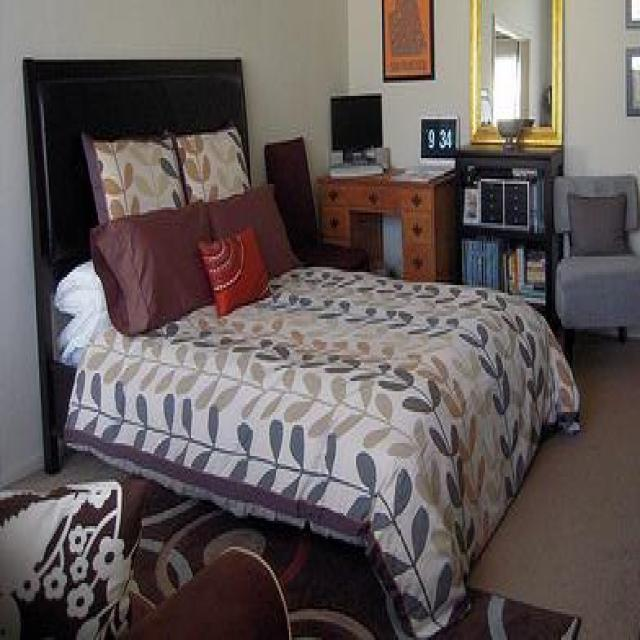bed: (21, 55, 580, 638)
chair: (552, 174, 638, 362)
